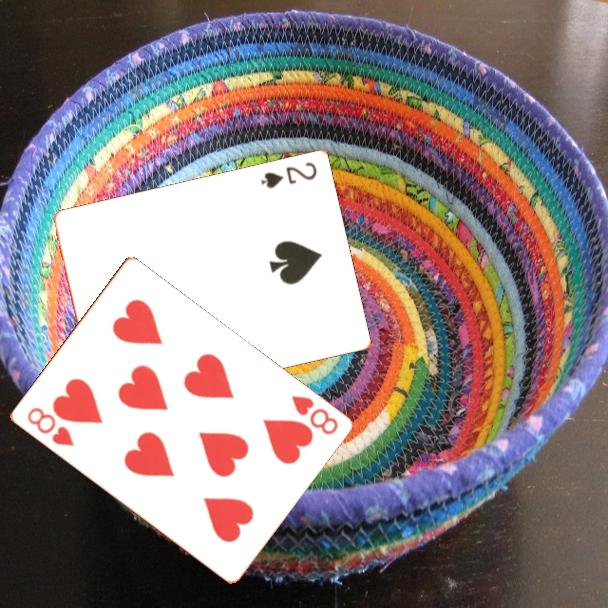h08: (287, 392, 341, 438), (23, 404, 76, 449)
s02: (257, 159, 320, 192)
